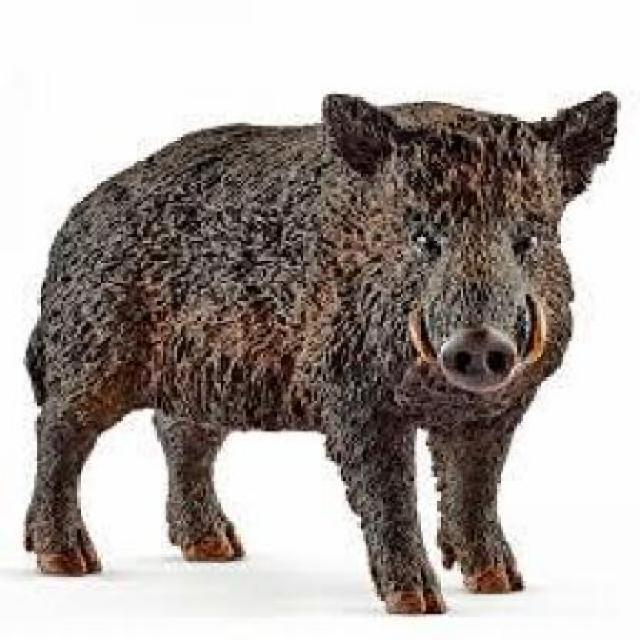Wild Boar: (17, 88, 620, 615)
